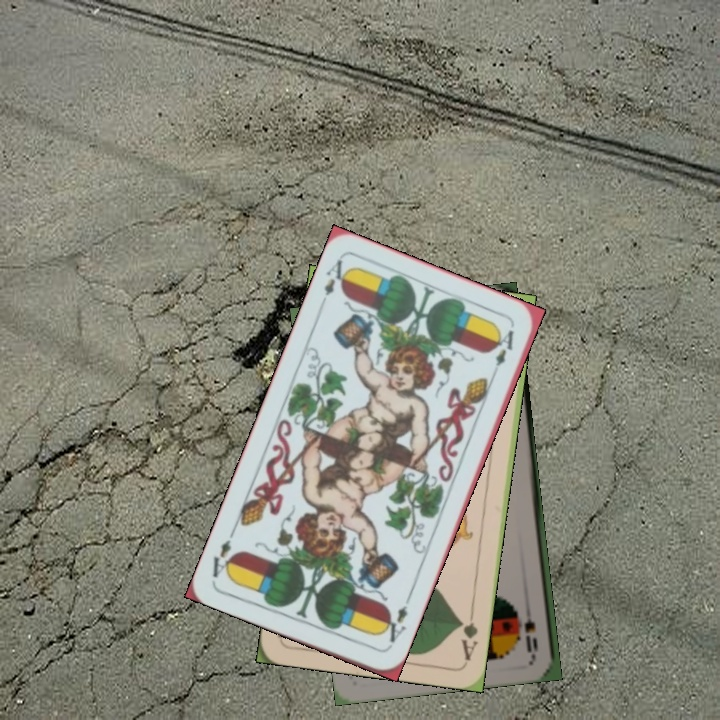EA: (315, 255, 353, 310), (377, 594, 413, 645)
GA: (455, 604, 481, 663)
SO: (520, 597, 540, 657)
